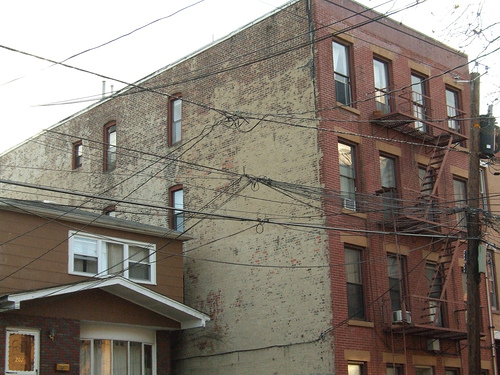pole: (461, 68, 488, 374)
